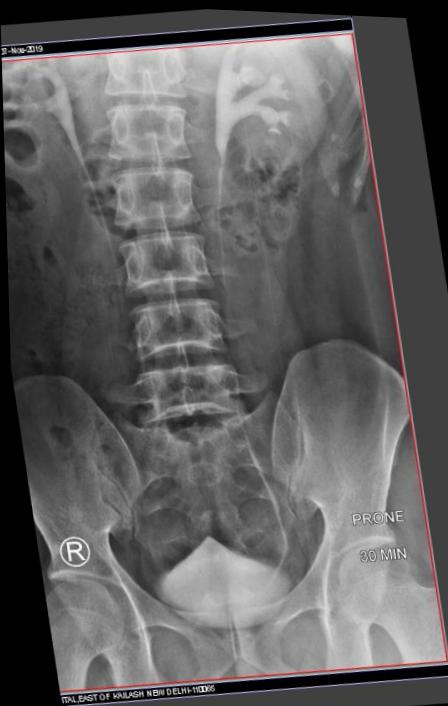bladder: (147, 525, 349, 671)
vertebrae: (115, 71, 225, 159)
